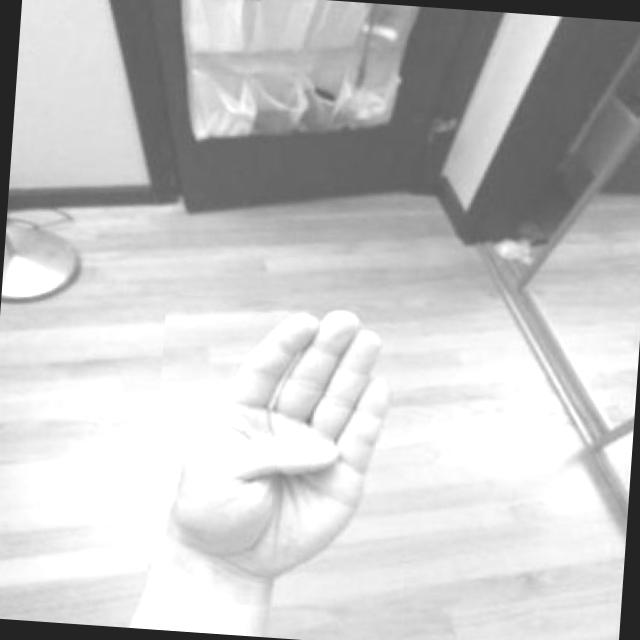B: (146, 294, 407, 608)
